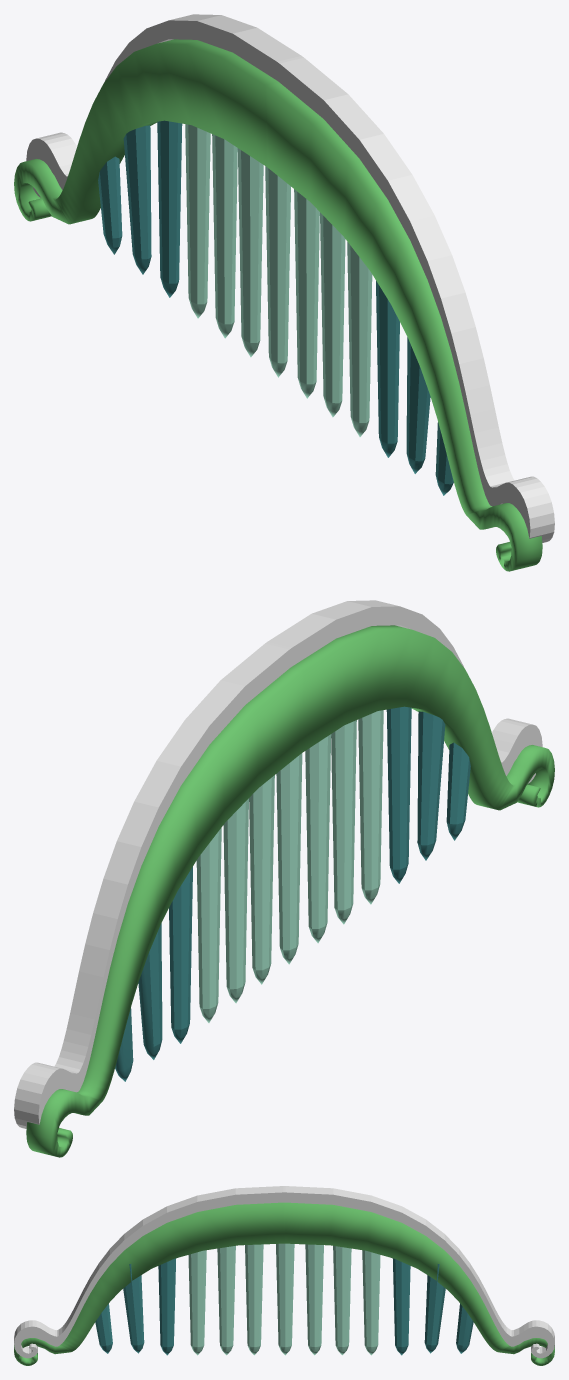
Rendered from comb.fbx.
3 renders of one model, top to bottom at view 1: azimuth 30°, elevation 25°; view 2: azimuth 150°, elevation 25°; view 3: azimuth 270°, elevation 25°, orthographic. The views are drawn at different scales.
Parts seen in each view (by area): view 1: NurbsPath.001, NurbsPath, Cone, Cone.002, Cone.003, Cone.004, Cone.005, Cone.001, Cone.006; view 2: NurbsPath.001, NurbsPath, Cone, Cone.002, Cone.003, Cone.004, Cone.005, Cone.001, Cone.006; view 3: NurbsPath.001, NurbsPath, Cone, Cone.002, Cone.003, Cone.004, Cone.005, Cone.001, Cone.006.
Boxes of the visible parts, x1=… form: NurbsPath.001: x1=14, y1=39, x2=542, y2=571; NurbsPath: x1=26, y1=14, x2=554, y2=542; Cone: x1=237, y1=148, x2=319, y2=398; Cone.002: x1=212, y1=134, x2=345, y2=417; Cone.003: x1=185, y1=124, x2=372, y2=436; Cone.004: x1=157, y1=120, x2=399, y2=457; Cone.005: x1=123, y1=125, x2=430, y2=473; Cone.001: x1=265, y1=166, x2=290, y2=377; Cone.006: x1=98, y1=156, x2=453, y2=495; NurbsPath.001: x1=26, y1=625, x2=554, y2=1157; NurbsPath: x1=14, y1=600, x2=542, y2=1128; Cone: x1=249, y1=734, x2=331, y2=984; Cone.002: x1=223, y1=720, x2=356, y2=1003; Cone.003: x1=196, y1=710, x2=383, y2=1022; Cone.004: x1=169, y1=706, x2=411, y2=1043; Cone.005: x1=138, y1=711, x2=445, y2=1059; Cone.001: x1=276, y1=753, x2=302, y2=964; Cone.006: x1=115, y1=742, x2=470, y2=1081; NurbsPath.001: x1=14, y1=1202, x2=554, y2=1365; NurbsPath: x1=14, y1=1186, x2=554, y2=1358; Cone: x1=245, y1=1244, x2=323, y2=1355; Cone.002: x1=217, y1=1246, x2=351, y2=1355; Cone.003: x1=188, y1=1250, x2=380, y2=1355; Cone.004: x1=158, y1=1258, x2=410, y2=1355; Cone.005: x1=123, y1=1264, x2=445, y2=1353; Cone.001: x1=276, y1=1243, x2=294, y2=1355; Cone.006: x1=95, y1=1303, x2=473, y2=1353.
Size of the model in its own units: 30 by 256 by 710.
